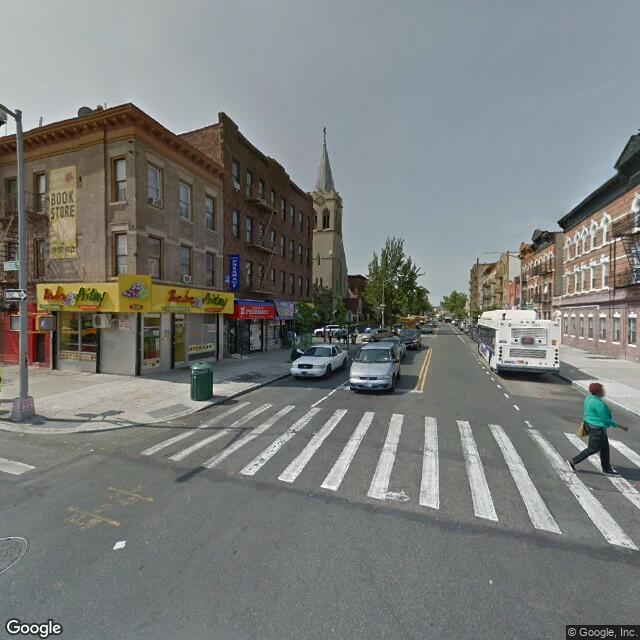litter: (111, 538, 127, 550), (488, 578, 494, 585)
